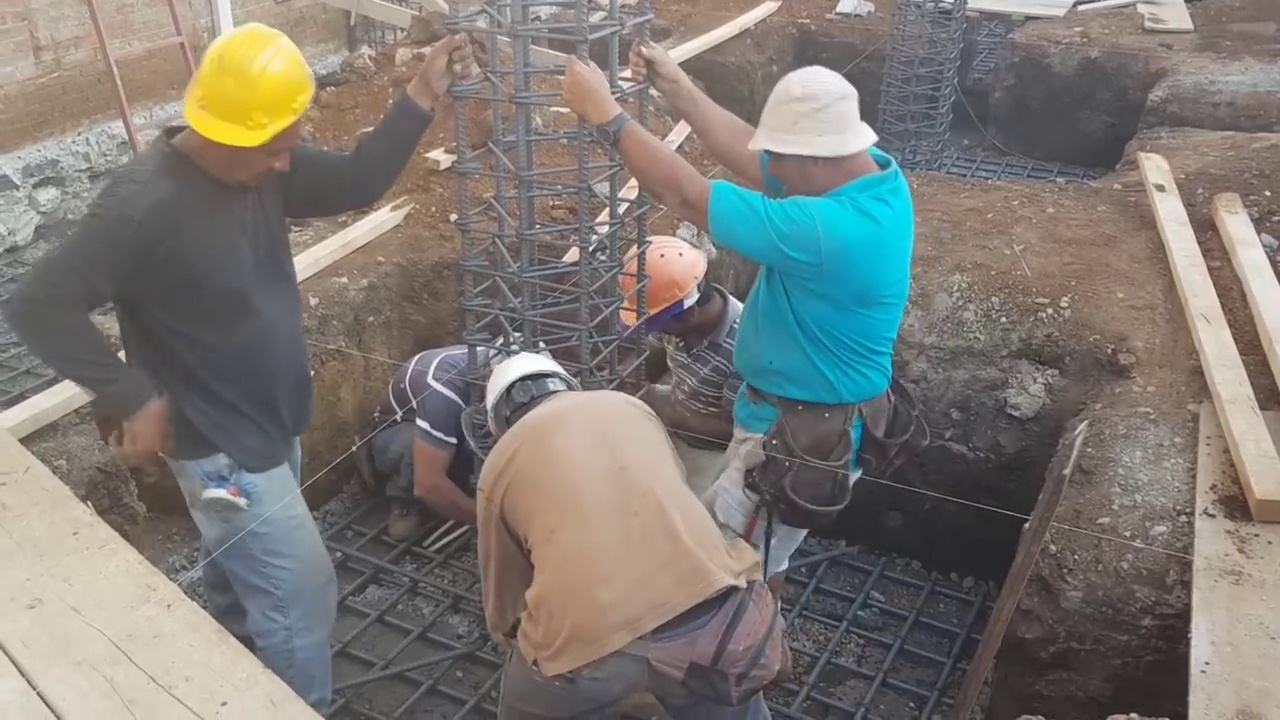helmet: (178, 21, 316, 152), (618, 234, 710, 331), (490, 348, 571, 423)
helmet-off: (740, 70, 885, 201)
helmet-on: (166, 23, 319, 190), (617, 235, 729, 354), (484, 340, 586, 447)
person: (17, 1, 368, 687), (559, 49, 915, 651), (476, 330, 767, 719), (618, 233, 757, 447), (374, 339, 506, 535)
